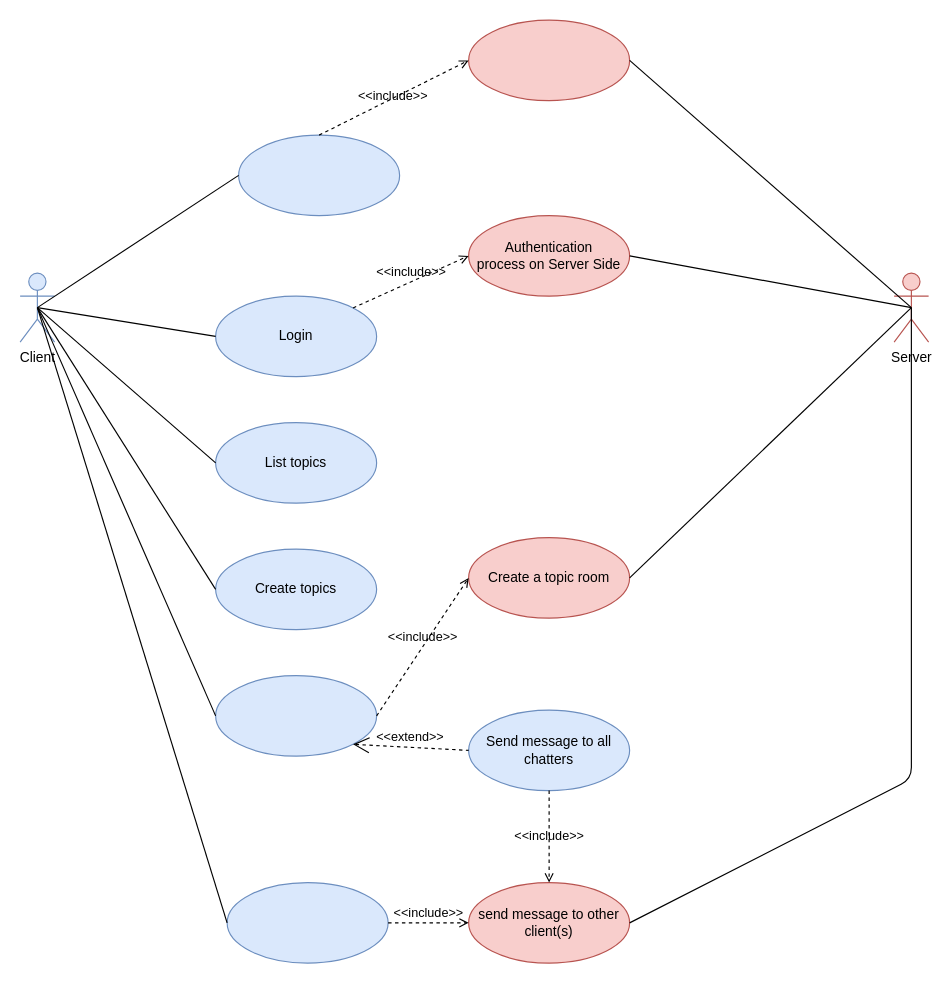
Some shapes in this 951 by 983 pixel diagram are drawn without their labels. Here are the shapes that lost their labels. From the top down, the centre of each, then its label:
At point 548,60: "Save on Server Side".
At point 318,175: "Create a profile".
At point 295,715: "Join topics".
At point 307,922: "Send private message to other client".
